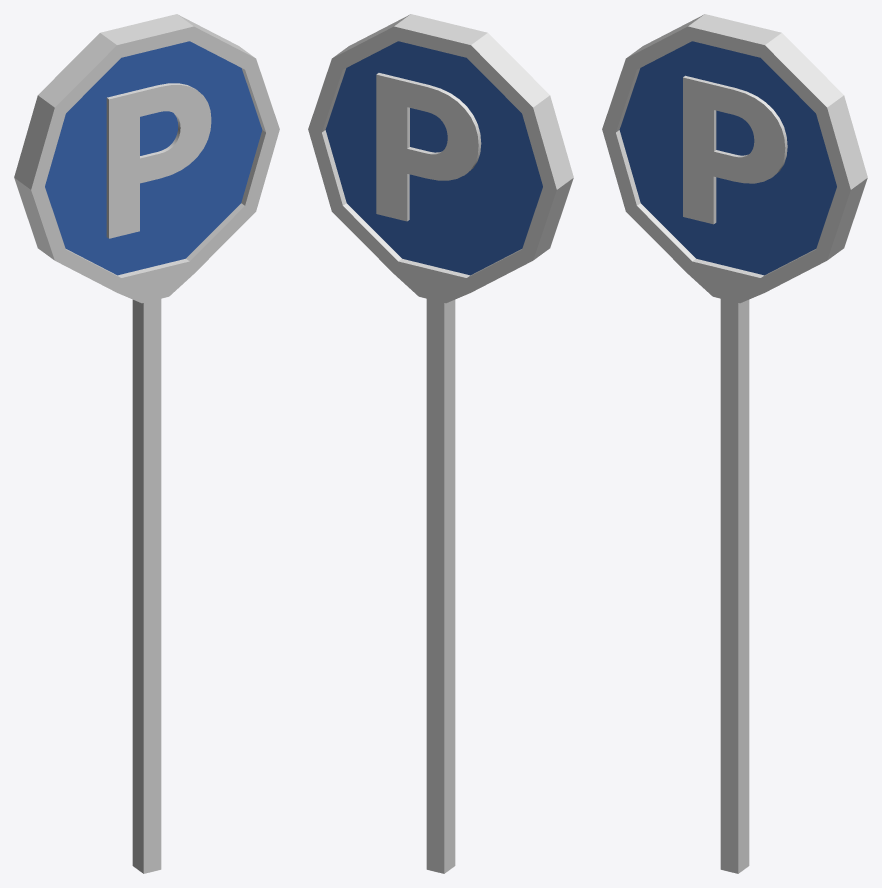
The model's file is 48 Sign_board_5.fbx.
3 views of the same model, side by side, from view 1: azimuth 30°, elevation 25°; view 2: azimuth 150°, elevation 25°; view 3: azimuth 330°, elevation 25° (orthographic).
Parts seen in each view (by area): view 1: Parking_Sign3; view 2: Parking_Sign3; view 3: Parking_Sign3.
Boxes of the visible parts, x1=… form: Parking_Sign3: x1=14, y1=14, x2=279, y2=873; Parking_Sign3: x1=308, y1=14, x2=573, y2=873; Parking_Sign3: x1=602, y1=14, x2=867, y2=873.
Bounding box in the file's own units: 19.05 × 61.34 × 2.26.
